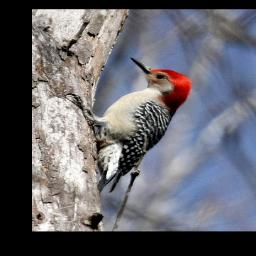Woodpecker: (58, 54, 198, 199)
